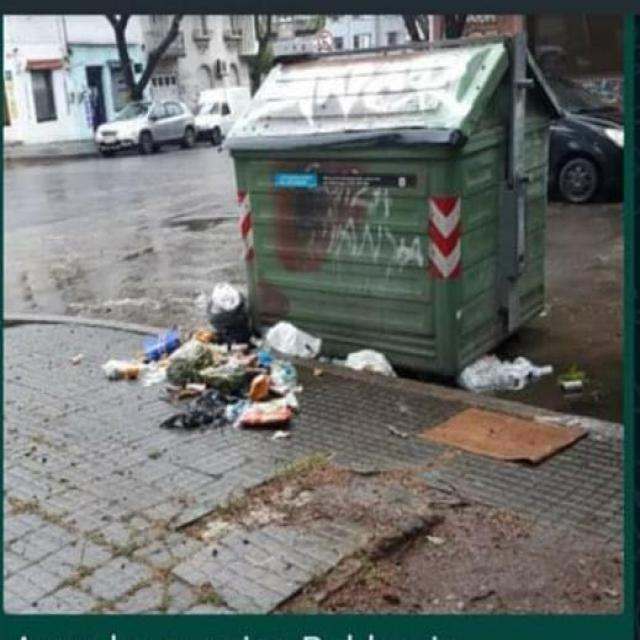garbage: (114, 264, 574, 468)
